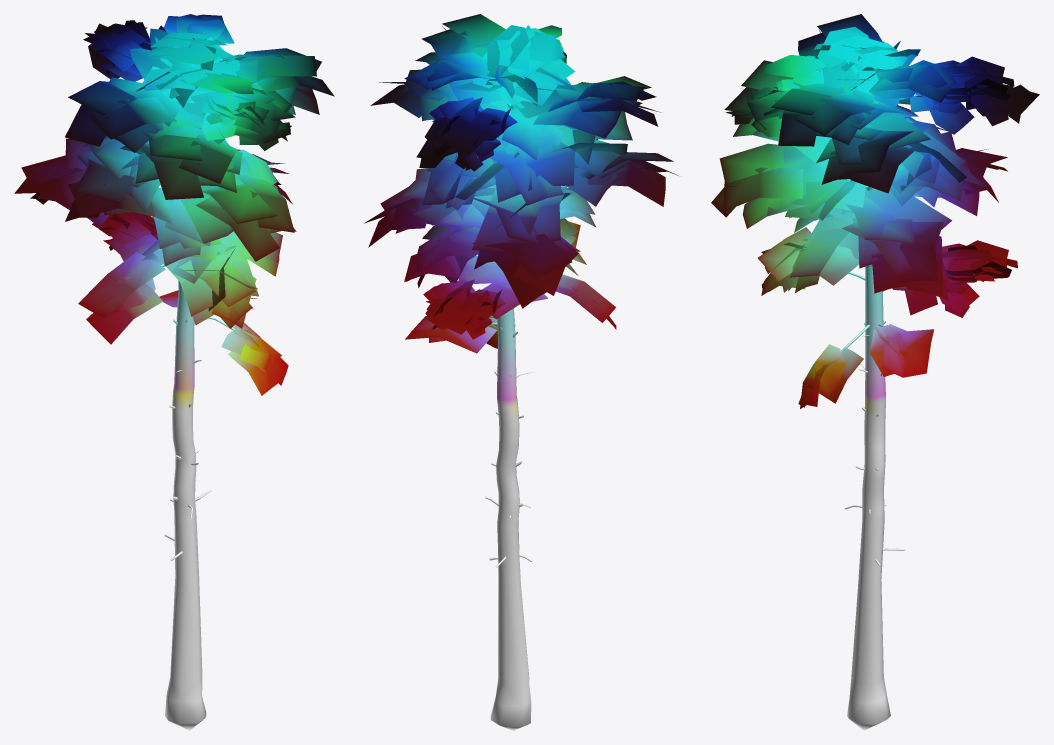
File: arden_forest_pine_big_03.fbx
3 views of the same model, side by side, from view 1: azimuth 30°, elevation 25°; view 2: azimuth 150°, elevation 25°; view 3: azimuth 270°, elevation 25° (orthographic).
Parts seen in each view (by area): view 1: arden_forest_pine_big_03; view 2: arden_forest_pine_big_03; view 3: arden_forest_pine_big_03.
Part boxes in pixels (x1=…): arden_forest_pine_big_03: x1=14, y1=14, x2=334, y2=730; arden_forest_pine_big_03: x1=364, y1=14, x2=678, y2=730; arden_forest_pine_big_03: x1=711, y1=14, x2=1039, y2=730.
Size of the model in its own units: 6.83 by 7.22 by 16.7.
